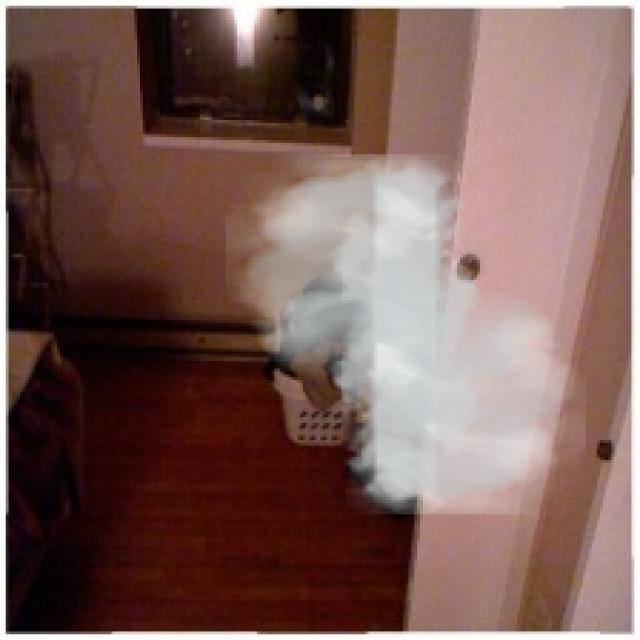Smoke: (225, 155, 586, 514)
